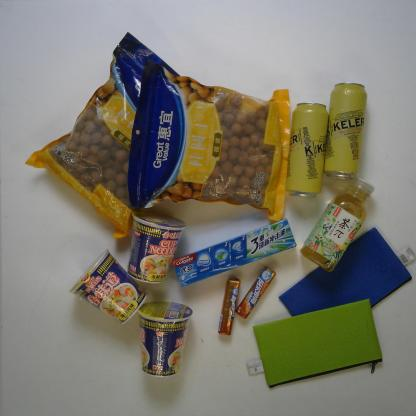Alcohol: (282, 101, 330, 200), (322, 81, 368, 182)
Candy: (235, 266, 276, 321), (218, 275, 241, 336)
Dried Food: (24, 31, 197, 240), (125, 56, 292, 223)
Drink: (300, 174, 376, 272)
Instant Noodles: (68, 247, 149, 327), (126, 210, 187, 286), (136, 299, 193, 378)
Personal Hygiene: (171, 218, 298, 288)
Stationery: (278, 226, 416, 326), (246, 297, 383, 389)
